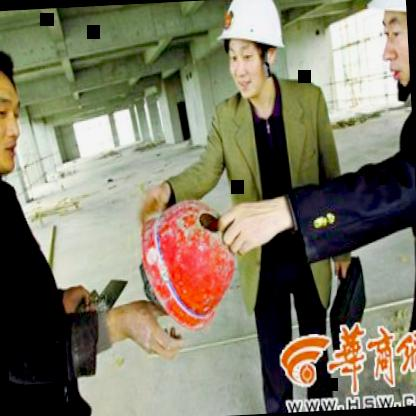head: (0, 37, 28, 183)
helmet: (210, 0, 291, 105), (372, 0, 410, 89)
